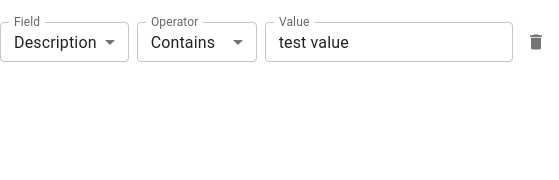
Scenario: AllocationConditionRow › Operator switching based on field type › shows text operators for text fields
Open operator dropdown
Click the dropdown named "Operator" at (183, 42), box [151, 32, 215, 52]
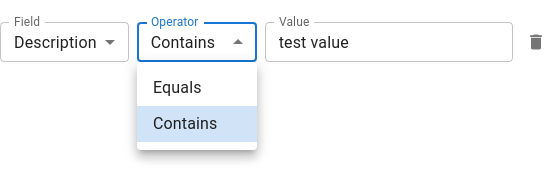
Check: the option "Equals" is shown, box [153, 78, 202, 97]
